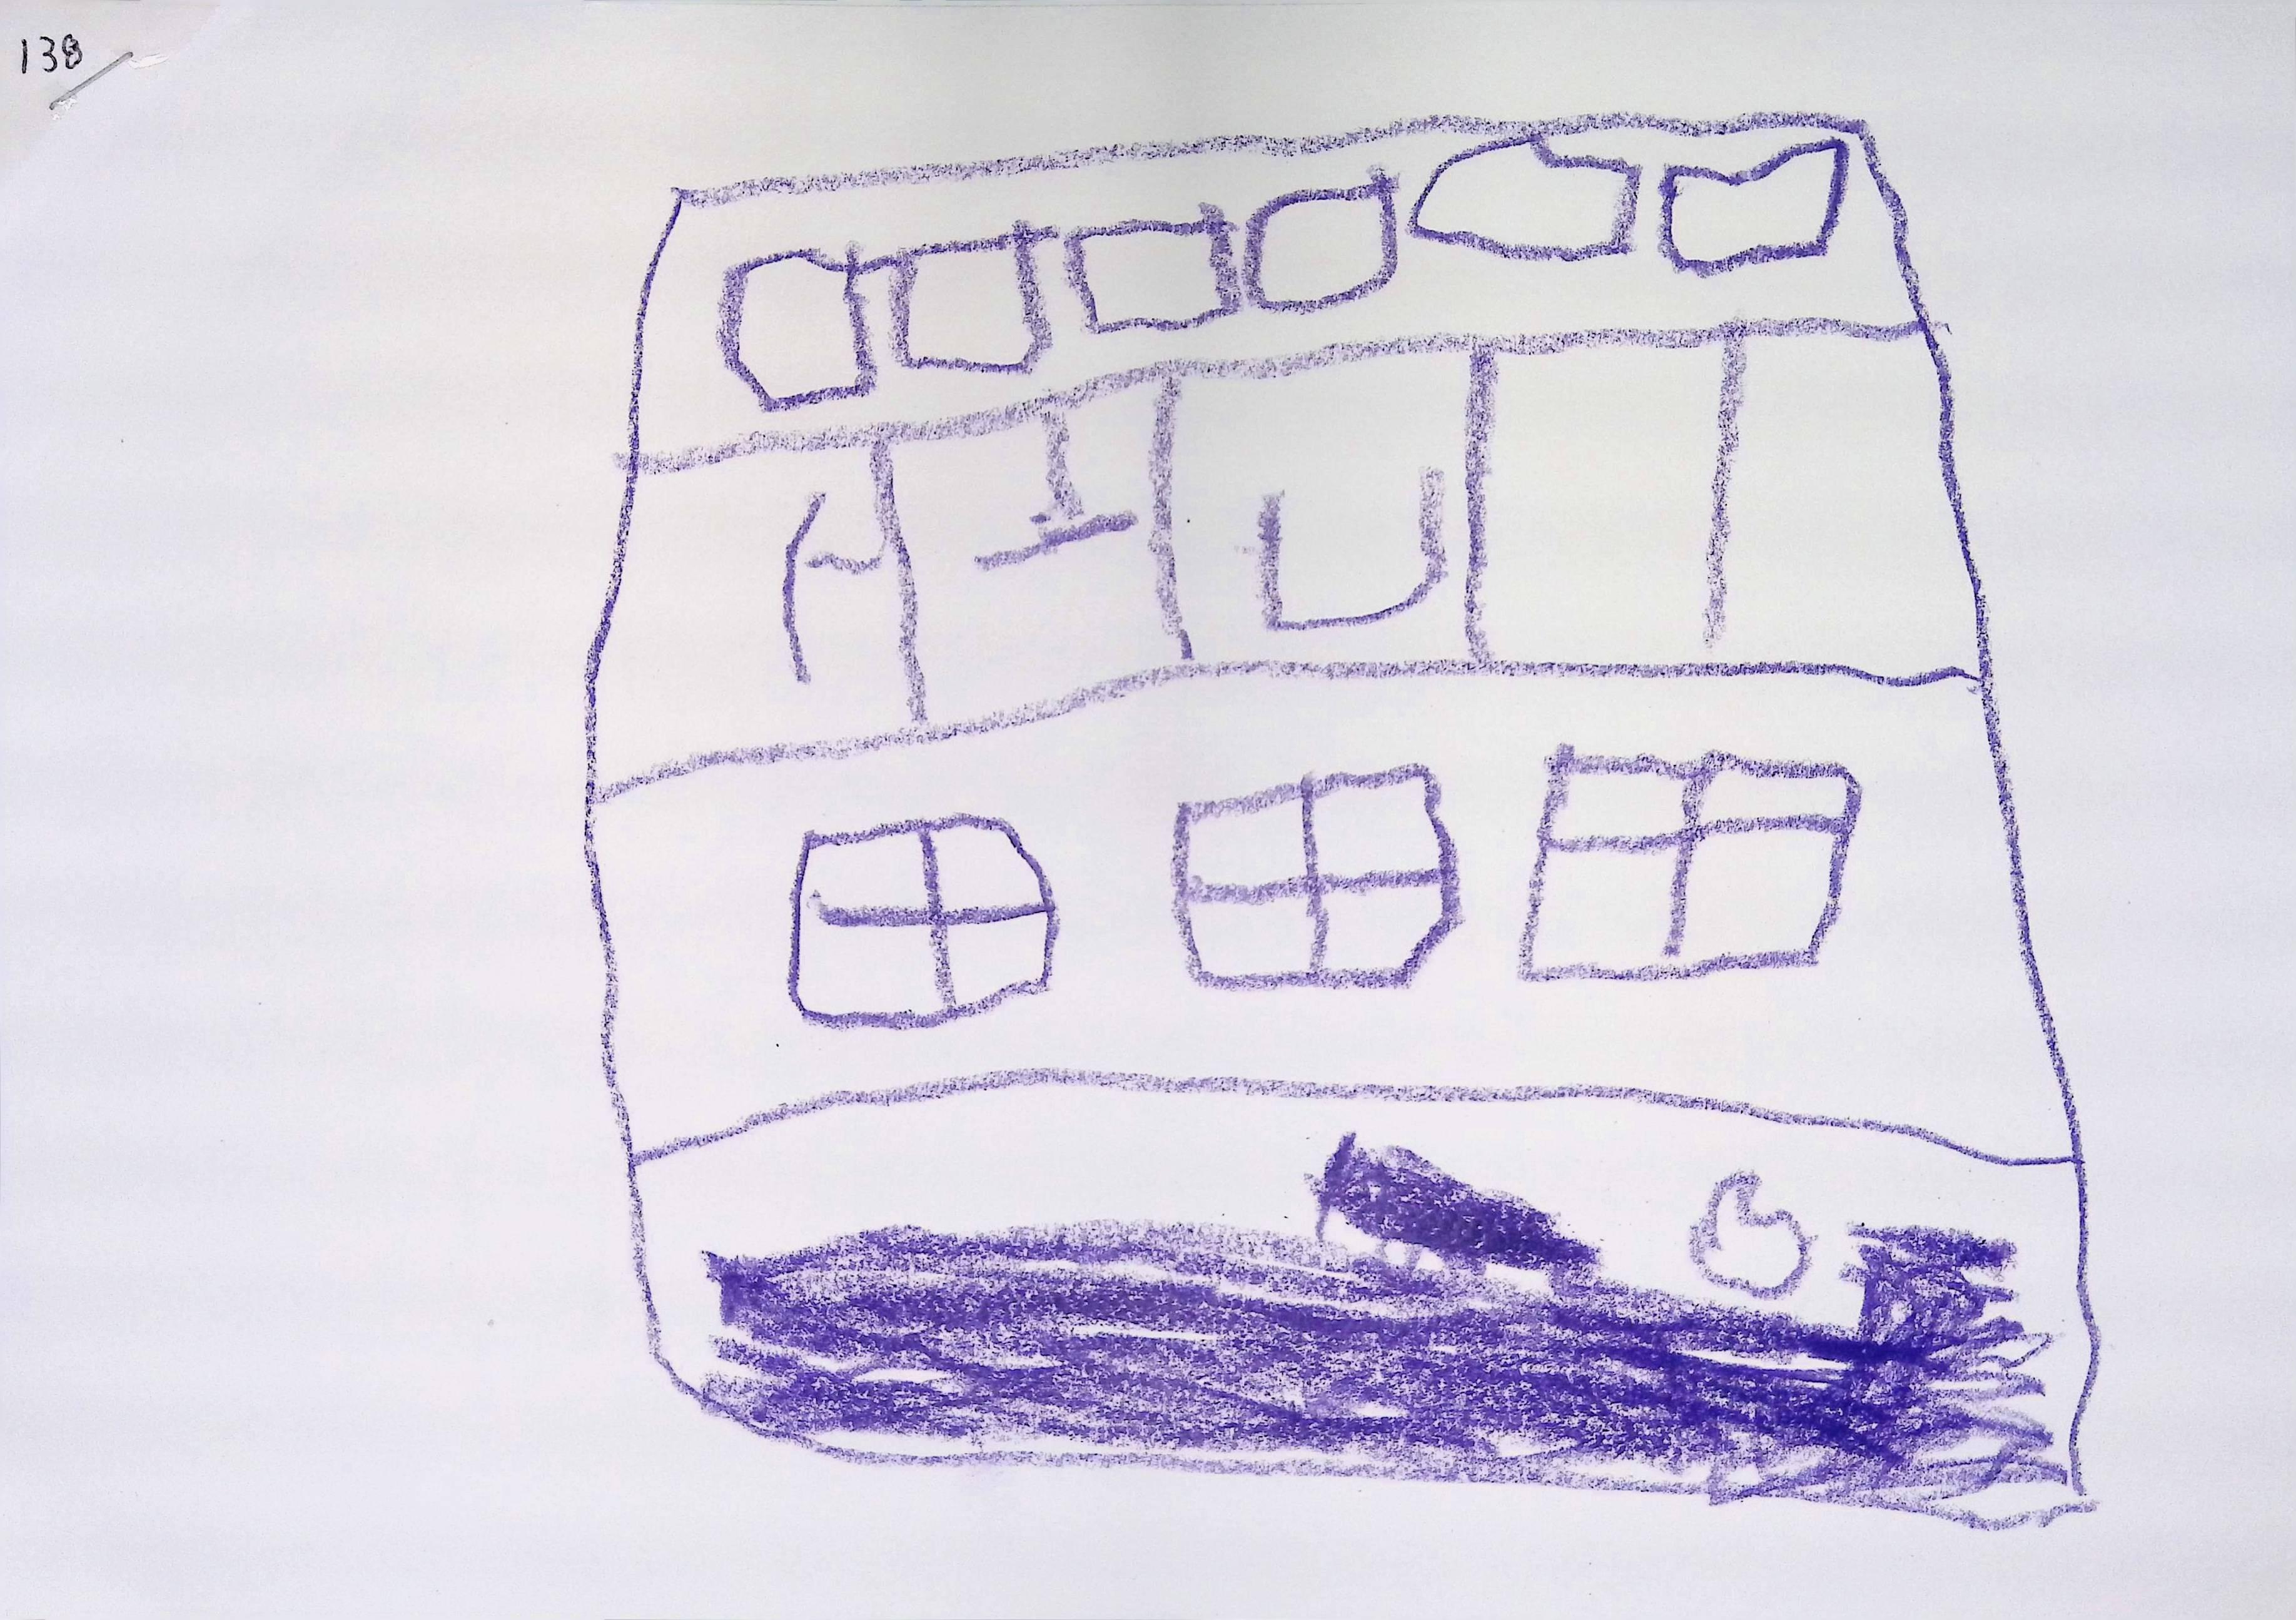house: (585, 110, 2100, 1524)
wall: (585, 114, 2100, 1525)
window: (1507, 740, 1875, 987), (1157, 747, 1488, 1006), (773, 798, 1067, 1043), (1406, 128, 1639, 282), (1649, 130, 1867, 293), (1225, 172, 1407, 321), (1057, 205, 1239, 347), (720, 251, 875, 407), (910, 228, 1055, 380)
